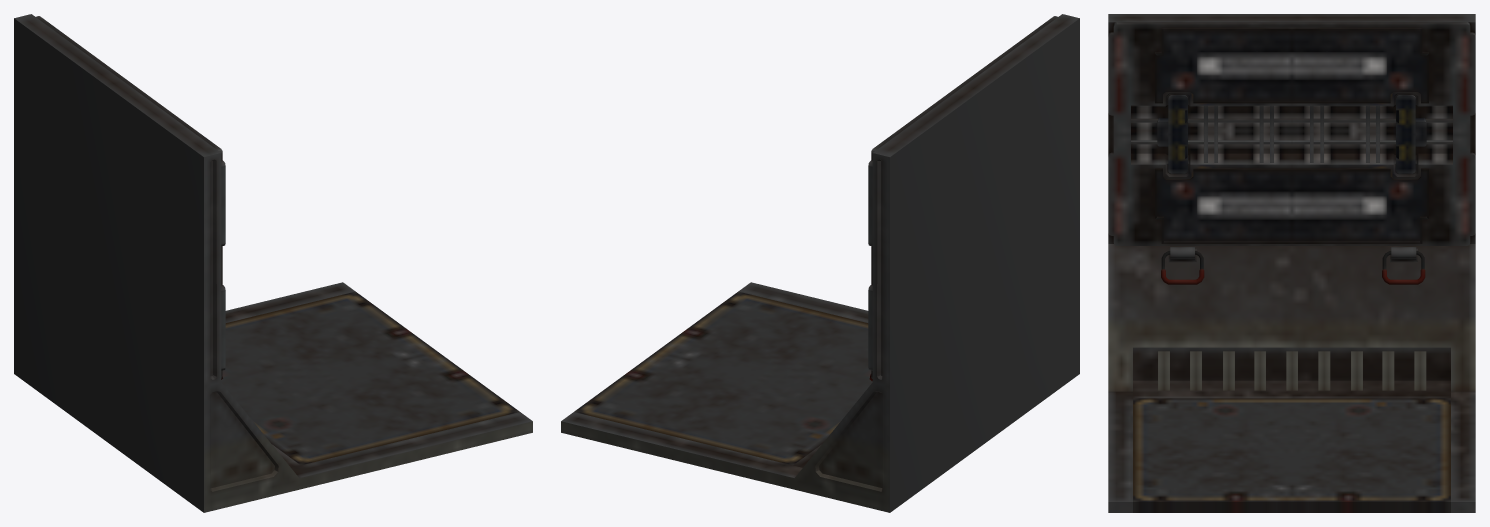
Rendered from Wall-Floor_26.FBX.
3 renders of one model, left to right at view 1: azimuth 30°, elevation 25°; view 2: azimuth 150°, elevation 25°; view 3: azimuth 270°, elevation 25°, orthographic. The views are drawn at different scales.
Parts seen in each view (by area): view 1: Wall-Floor_26; view 2: Wall-Floor_26; view 3: Wall-Floor_26.
Part boxes in pixels (x1=…): Wall-Floor_26: x1=14, y1=14, x2=532, y2=512; Wall-Floor_26: x1=561, y1=14, x2=1079, y2=512; Wall-Floor_26: x1=1108, y1=14, x2=1475, y2=512.
Size of the model in its own units: 300 by 310 by 300.
